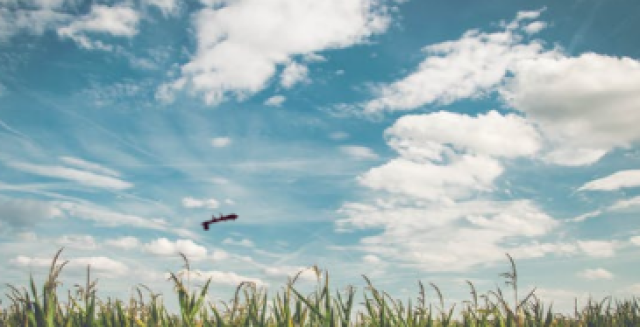military drone: (200, 212, 239, 230)
